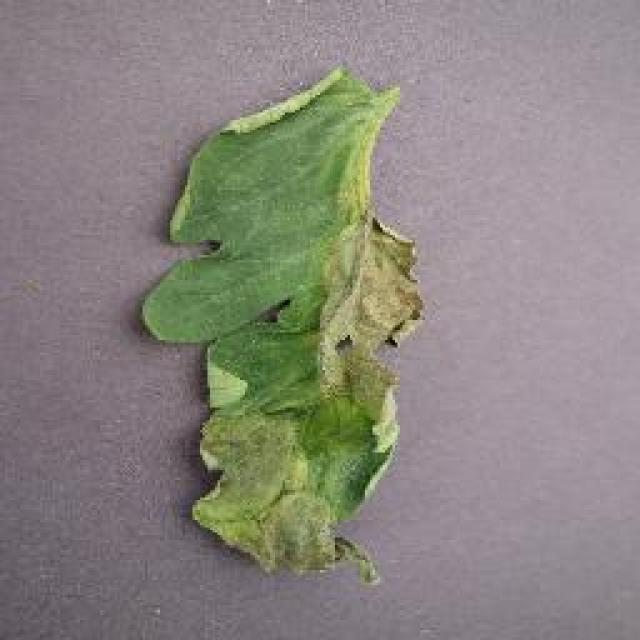Tomato Late Blight: (220, 175, 442, 588)
